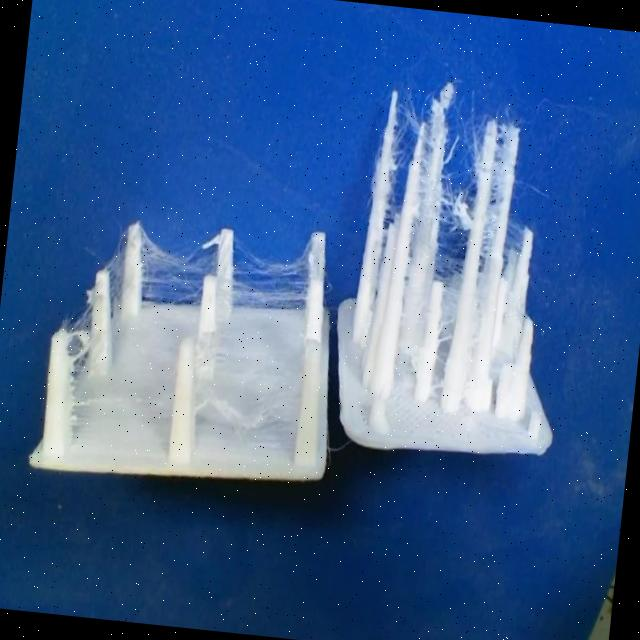stringing: (189, 352, 298, 448), (125, 220, 222, 314), (428, 111, 484, 258), (225, 228, 315, 308), (384, 92, 419, 204), (479, 130, 507, 264)
